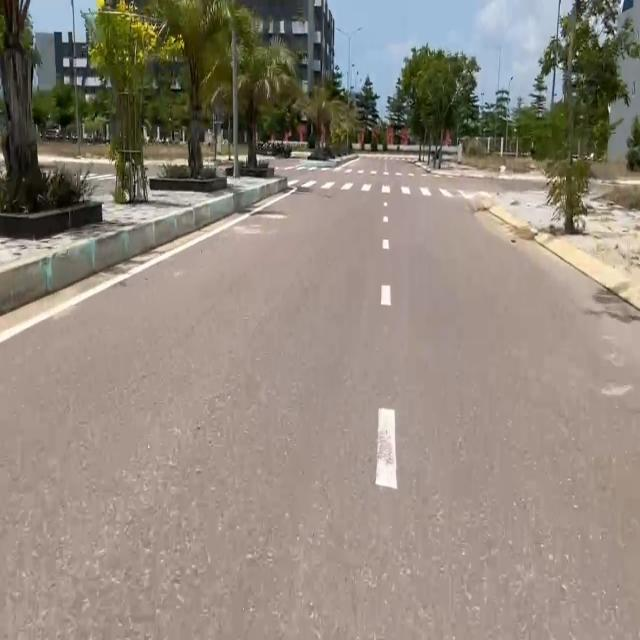walk-crossing: (290, 173, 474, 200)
